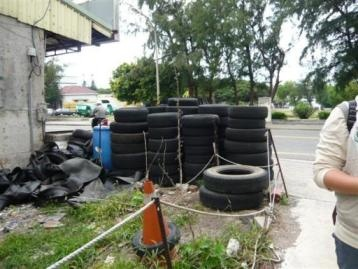tire: (203, 163, 269, 194), (197, 185, 263, 211), (222, 138, 271, 153), (221, 152, 271, 166), (223, 127, 269, 142), (180, 112, 220, 128), (224, 115, 267, 129), (226, 105, 270, 118), (107, 131, 147, 145), (110, 119, 148, 133), (110, 155, 148, 169), (108, 142, 147, 155), (146, 173, 180, 187), (148, 113, 181, 127), (145, 162, 179, 175), (180, 125, 216, 137), (146, 139, 179, 152), (195, 104, 227, 117), (147, 126, 179, 139), (147, 152, 179, 165), (112, 107, 148, 118), (167, 95, 198, 107), (184, 142, 213, 154), (182, 135, 214, 145)
